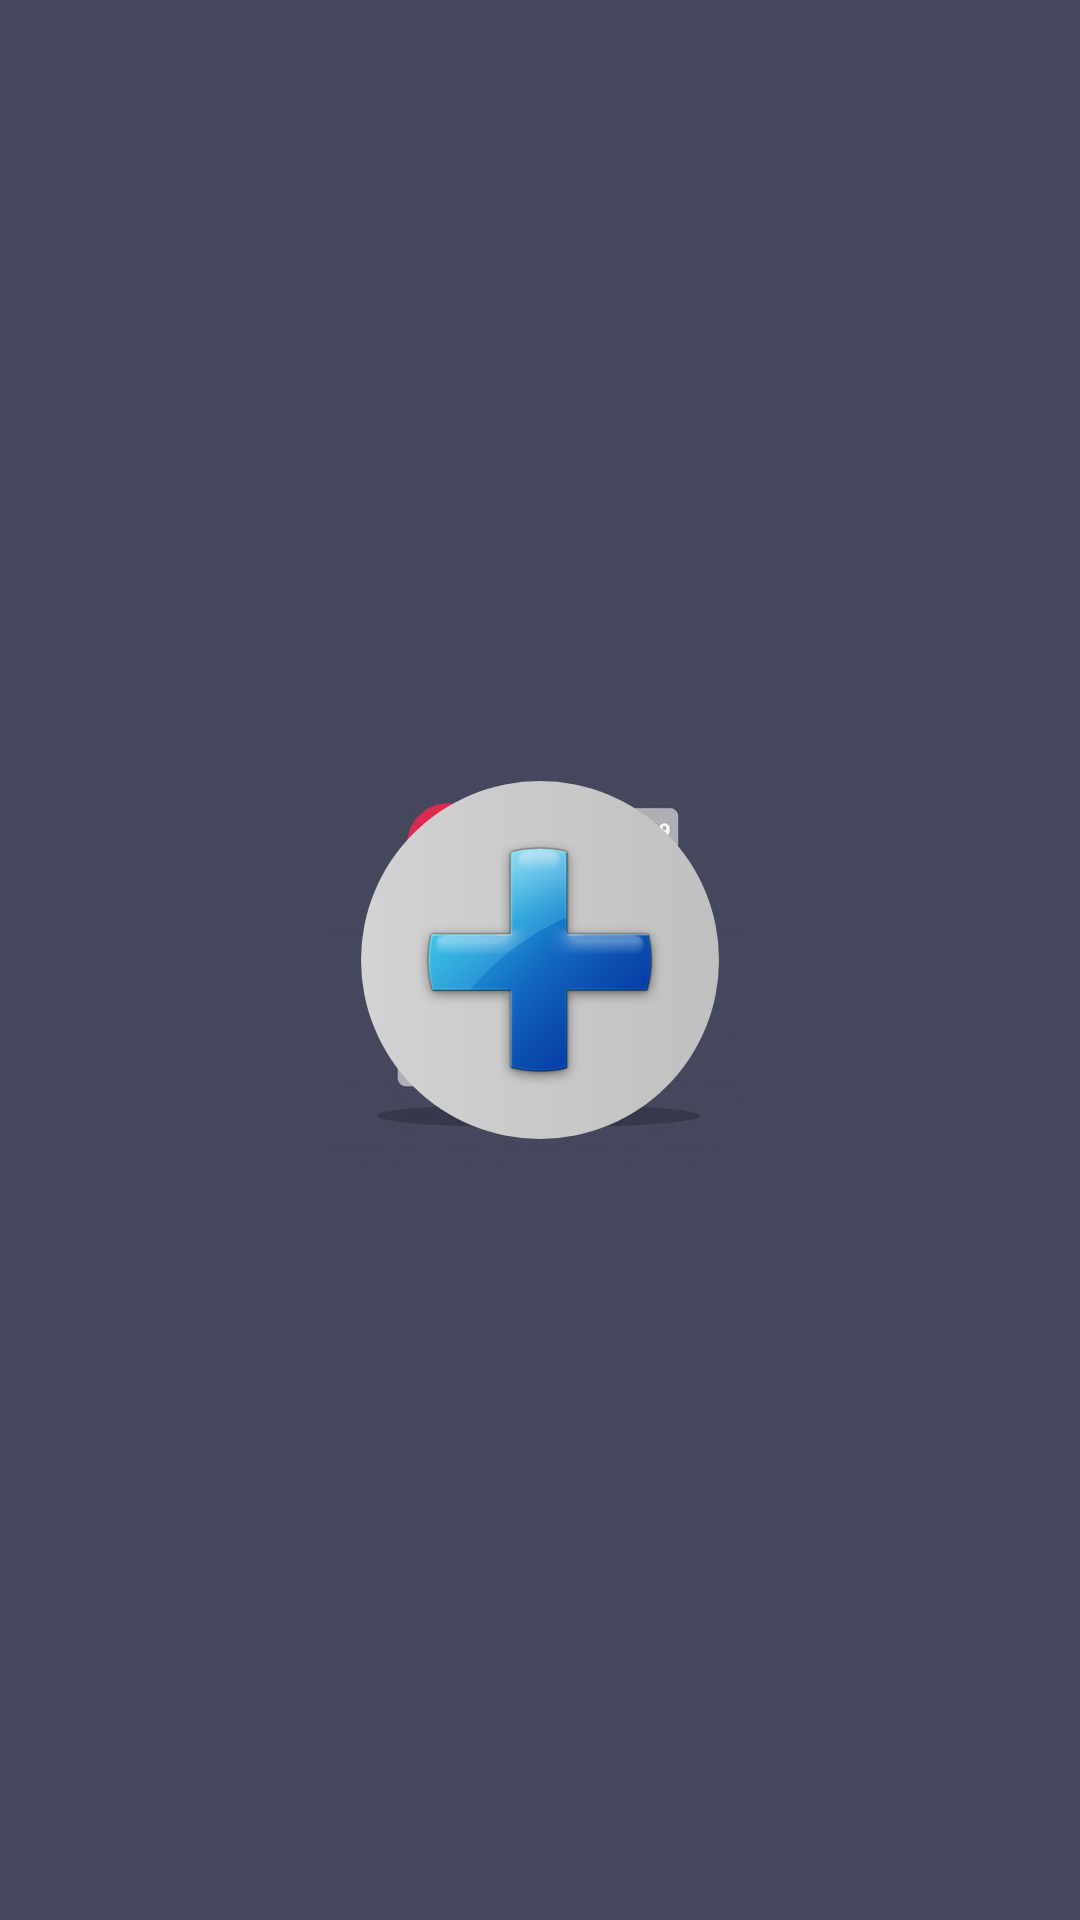

Icons on this 1080px×1920px Android screen, each with the point to tap as (x=x, y=y):
image to add pictures: (x=541, y=954)
